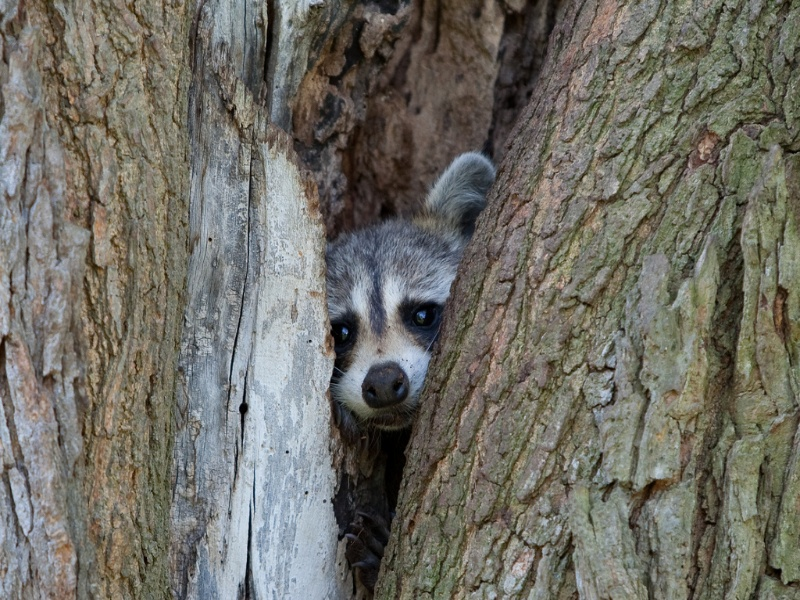raccoon: (322, 151, 507, 447)
